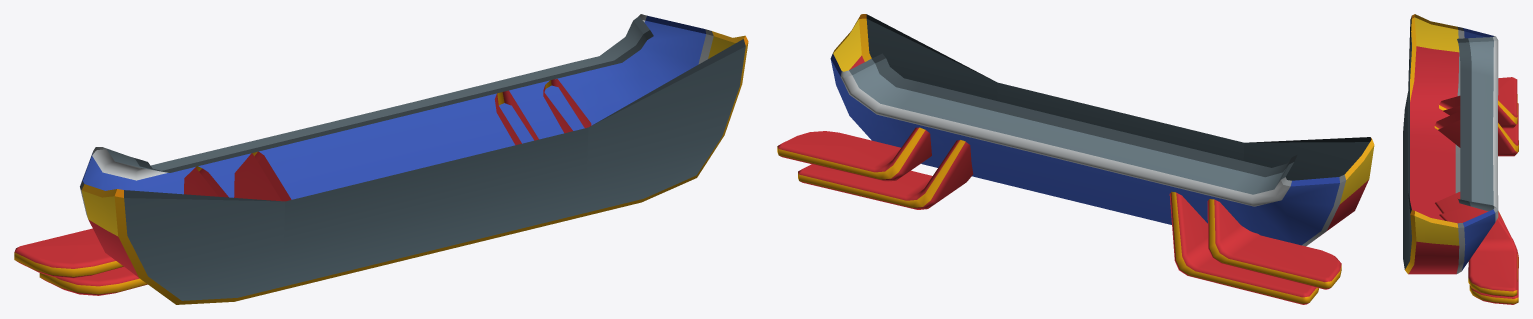
File: Car_10_RearBumper_Cool.fbx
3 views of the same model, side by side, from view 1: azimuth 30°, elevation 25°; view 2: azimuth 150°, elevation 25°; view 3: azimuth 270°, elevation 25° (orthographic). The views are drawn at different scales.
Visible parts, largest first — view 1: Car_10_RearBumper_Cool; view 2: Car_10_RearBumper_Cool; view 3: Car_10_RearBumper_Cool.
Boxes of the visible parts, x1,y1,x2,y2 form: Car_10_RearBumper_Cool: [14, 14, 748, 304]; Car_10_RearBumper_Cool: [777, 14, 1374, 304]; Car_10_RearBumper_Cool: [1403, 14, 1518, 304].
Size of the model in its own units: 263 by 60.39 by 54.88.
